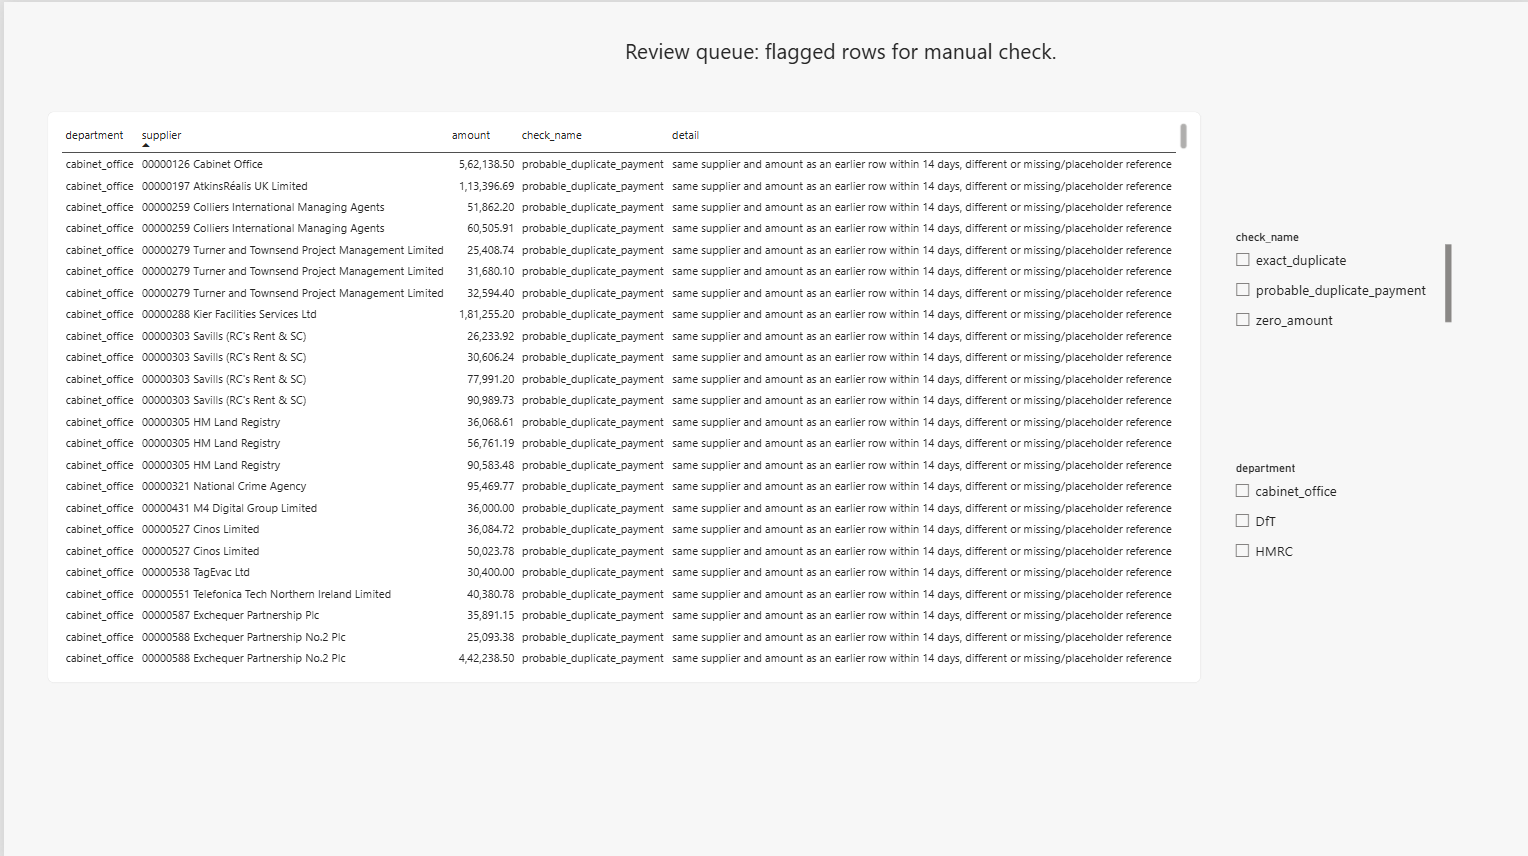

The page's visual inventory and layout, read from the dashboard file:
{"tool":"powerbi","page":{"name":"Review queue","canvas":[1920,1080],"ordinal":2},"visuals":[{"type":"tableEx","fields":{"Values":["review_queue.department","review_queue.supplier","review_queue.amount","review_queue.check_name","review_queue.detail"]},"box":[54.7,137.7,1450.9,718.9],"z":0},{"type":"slicer","fields":{"Values":["review_queue.check_name"]},"box":[1541.5,286.8,279.2,128.3],"z":1000},{"type":"slicer","fields":{"Values":["Departments.department"]},"box":[1541.5,577.4,279.2,150.9],"z":1001},{"type":"textbox","box":[781.1,43.4,550.9,43.4],"z":1002}]}

Visuals, with their boxes in screenshot pixels (x1, y1, x2, y2), scaled from the page's 1920x1080 canvas onto the 1528x856 screenshot:
tableEx - review_queue.department x review_queue.supplier: pyautogui.locateOnScreen(44, 109, 1198, 679)
slicer - review_queue.check_name: pyautogui.locateOnScreen(1227, 227, 1449, 329)
slicer - Departments.department: pyautogui.locateOnScreen(1227, 458, 1449, 577)
textbox: pyautogui.locateOnScreen(622, 34, 1060, 69)
